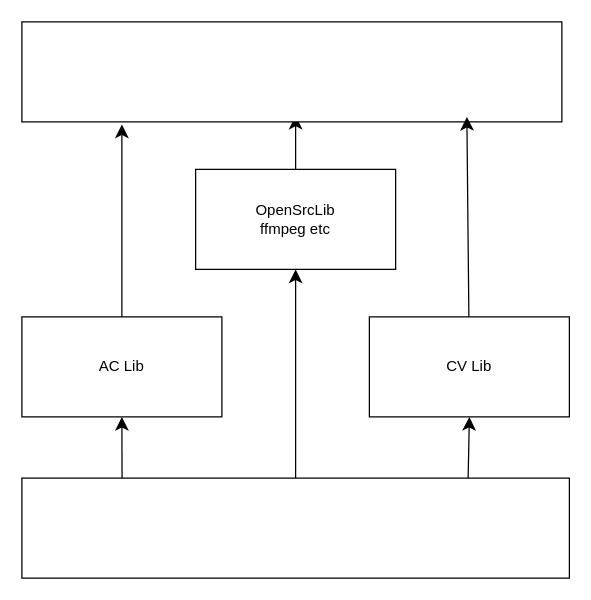
Some shapes in this 591 by 600 pixel diagram are drawn without their labels. The shapes that lost their labels are listed below. From the top down, each one's box as (x1, y1, x2, y2) in pixels, then its label:
(21, 21, 562, 122): 应用
(21, 477, 569, 578): MultiMedia Lib
